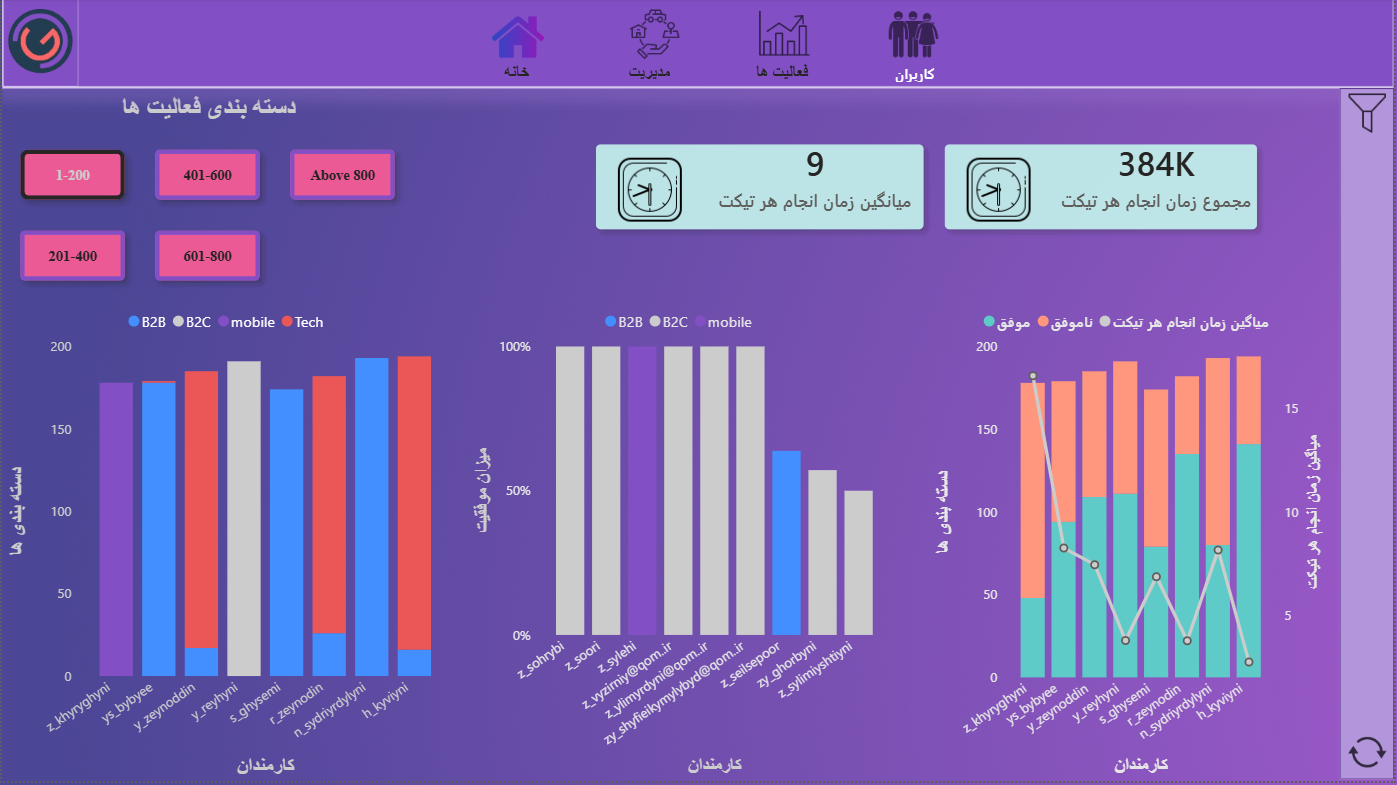

This screenshot's page, from the dashboard's own definition file:
{"tool":"powerbi","page":{"name":"کاربران","canvas":[1280,720],"ordinal":3},"visuals":[{"type":"advancedSlicerVisual","title":"دسته بندی فعالیت ها","fields":{"Values":["Meesures.Column1"]},"box":[0,87.3,380.2,189.5],"z":0},{"type":"columnChart","fields":{"Y":["Meesures.دسته بندی ها"],"Category":["TrReport (2).tr_Creator"],"Series":["TrReport (2).ProcessCategory"]},"box":[0,276.8,415.8,443.4],"z":1000},{"type":"image","box":[428.3,7.2,89,59.8],"z":2000,"group":"g1"},{"type":"image","box":[1230.8,86.2,49.2,39],"z":2000,"group":"g2"},{"type":"lineStackedColumnComboChart","fields":{"Category":["TrReport (2).tr_Creator"],"Y":["Meesures.دسته بندی ها"],"Series":["TrReport (2).Succsessfulness"],"Y2":["Avg(TrReport (2).Bus Hours Open)"]},"box":[852.3,276.7,366.3,443],"z":2000},{"type":"image","box":[796.8,6,80.5,50.4],"z":3000,"group":"g1"},{"type":"columnChart","fields":{"Category":["TrReport (2).tr_Creator"],"Series":["TrReport (2).ProcessCategory"],"Y":["Meesures.Success Rate"]},"box":[427.9,276.7,390.7,443],"z":3000},{"type":"shape","box":[-0.6,-0.5,1280,83],"z":4000},{"type":"image","box":[676.5,9.7,84.9,46.5],"z":4000,"group":"g1"},{"type":"image","box":[0,0,70.8,81.9],"z":5000},{"type":"image","box":[559.5,6.3,80.5,50.4],"z":5000,"group":"g1"},{"type":"cardVisual","fields":{"Data":["Avg(TrReport (2).Bus Hours Open)"]},"box":[517.4,105.8,359.3,136],"z":6000},{"type":"cardVisual","fields":{"Data":["Sum(TrReport (2).Bus Hours Open)"]},"box":[837.2,105.8,345.1,136.5],"z":7000},{"type":"shape","box":[1228.9,83.2,50.9,635.5],"z":8000},{"type":"image","box":[1228.8,675.6,51.2,34.9],"z":9000},{"type":"pageNavigator","box":[417.1,54.4,479.1,28.5],"z":9001,"group":"g1"},{"type":"group","id":"g1","title":"Group 1","box":[417.1,6,479.1,77],"z":10000},{"type":"group","id":"g2","title":"Group 1","box":[1058.4,81.8,221.6,638.2],"z":11000}]}

Visuals, with their boxes in screenshot pixels (x1, y1, x2, y2), scaled from the page's 1280x720 canvas onto the 1397x785 screenshot:
"دسته بندی فعالیت ها" advancedSlicerVisual: <bbox>0, 95, 415, 302</bbox>
columnChart - Meesures.دسته بندی ها x TrReport (2).tr_Creator: <bbox>0, 302, 454, 784</bbox>
image: <bbox>467, 8, 565, 73</bbox>
image: <bbox>1343, 94, 1396, 137</bbox>
lineStackedColumnComboChart - TrReport (2).tr_Creator x Meesures.دسته بندی ها: <bbox>930, 302, 1330, 784</bbox>
image: <bbox>870, 7, 957, 61</bbox>
columnChart - TrReport (2).tr_Creator x TrReport (2).ProcessCategory: <bbox>467, 302, 893, 784</bbox>
shape: <bbox>0, 0, 1396, 90</bbox>
image: <bbox>738, 11, 831, 61</bbox>
image: <bbox>0, 0, 77, 89</bbox>
image: <bbox>611, 7, 698, 62</bbox>
cardVisual - Avg(TrReport (2).Bus Hours Open): <bbox>565, 115, 957, 264</bbox>
cardVisual - Sum(TrReport (2).Bus Hours Open): <bbox>914, 115, 1290, 264</bbox>
shape: <bbox>1341, 91, 1396, 784</bbox>
image: <bbox>1341, 737, 1396, 775</bbox>
pageNavigator: <bbox>455, 59, 978, 90</bbox>
"Group 1" group: <bbox>455, 7, 978, 90</bbox>
"Group 1" group: <bbox>1155, 89, 1396, 784</bbox>
